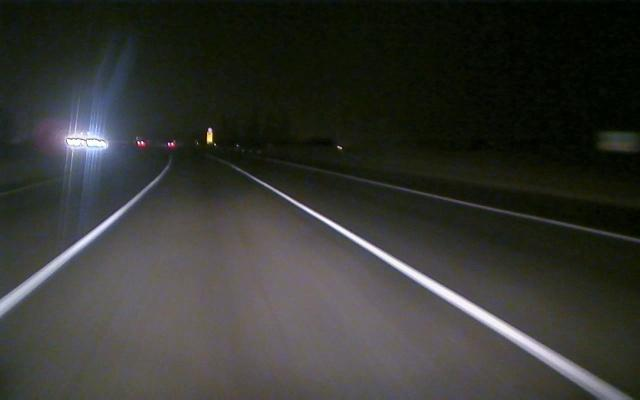lane: (236, 168, 630, 399), (345, 175, 640, 244), (1, 184, 152, 318)
